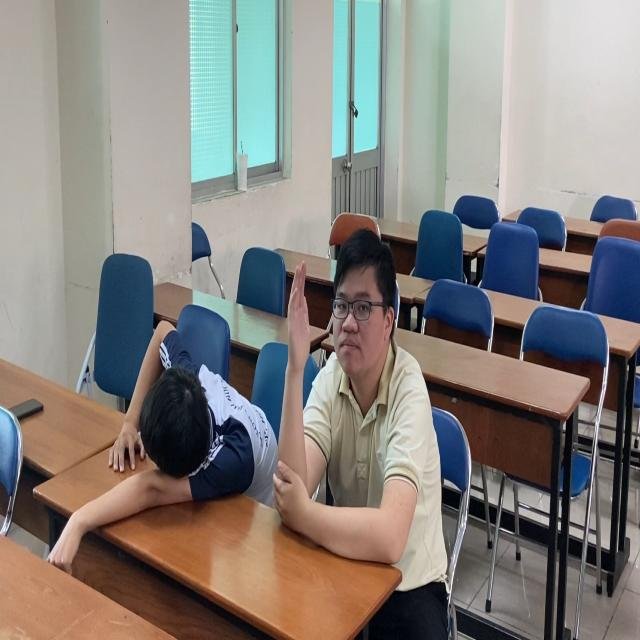raise_hand: (276, 218, 431, 579)
sleep: (100, 313, 271, 536)
